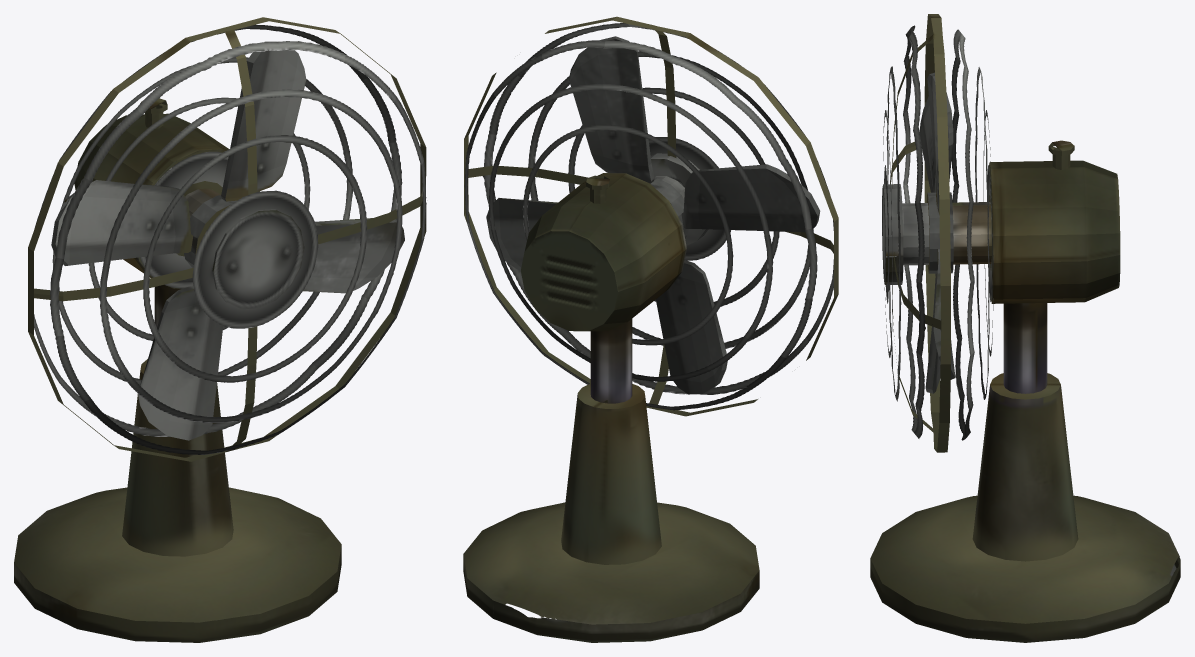
The model's file is Desk Fan 1.fbx.
The picture shows the model from 3 angles, left to right: view 1: azimuth 30°, elevation 25°; view 2: azimuth 150°, elevation 25°; view 3: azimuth 270°, elevation 25°; orthographic projection. The views are drawn at different scales.
Parts seen in each view (by area): view 1: Base, Fan Cage, Fans, Fan Body, Fan Cage Ring; view 2: Base, Fan Cage, Fans, Fan Body, Fan Cage Ring; view 3: Base, Fan Body, Fan Cage, Fan Cage Ring, Fans, Fan Switch.
Part boxes in pixels (<box>): Base: <box>14,284,341,642</box>; Fan Cage: <box>34,24,426,454</box>; Fans: <box>51,41,404,440</box>; Fan Body: <box>74,113,304,309</box>; Fan Cage Ring: <box>28,17,426,461</box>; Base: <box>463,319,759,642</box>; Fan Cage: <box>464,23,833,410</box>; Fans: <box>486,36,820,394</box>; Fan Body: <box>521,153,708,331</box>; Fan Cage Ring: <box>464,16,838,416</box>; Base: <box>870,303,1180,642</box>; Fan Body: <box>882,160,1120,303</box>; Fan Cage: <box>883,25,993,440</box>; Fan Cage Ring: <box>890,14,950,452</box>; Fans: <box>919,72,955,393</box>; Fan Switch: <box>1048,140,1074,169</box>.
Size of the model in its own units: 380 by 522 by 270.
